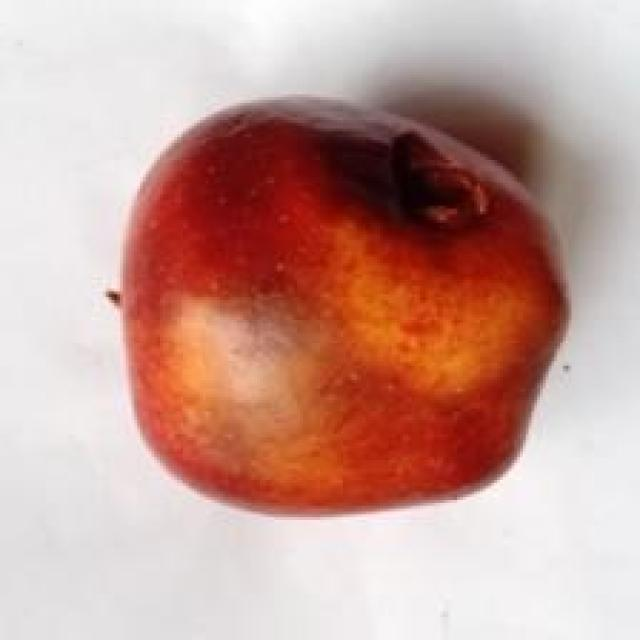rotten apple: (64, 62, 596, 549)
